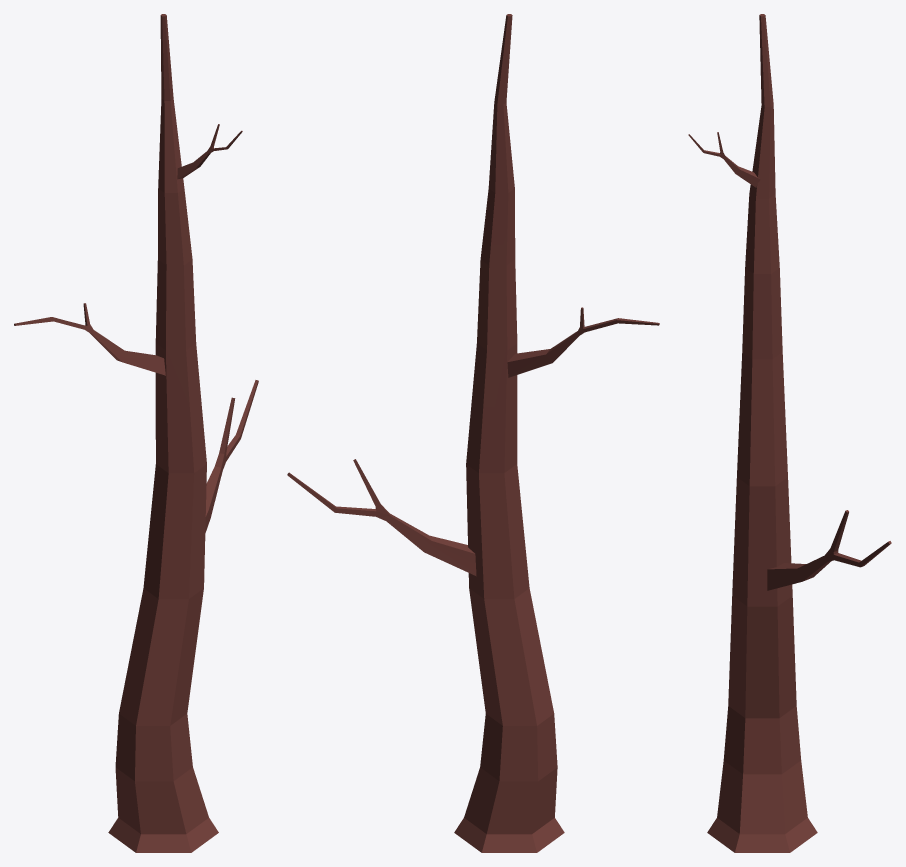
File: DeadTree02.fbx
3 renders of one model, left to right at view 1: azimuth 30°, elevation 25°; view 2: azimuth 150°, elevation 25°; view 3: azimuth 270°, elevation 25°, orthographic.
Parts seen in each view (by area): view 1: Tree_04; view 2: Tree_04; view 3: Tree_04.
Part boxes in pixels (box(x1,y1,x2,y2)): Tree_04: box(14, 14, 258, 852); Tree_04: box(287, 14, 659, 852); Tree_04: box(688, 14, 891, 852).
Bounding box in the file's own units: 150 × 381 × 85.95.
